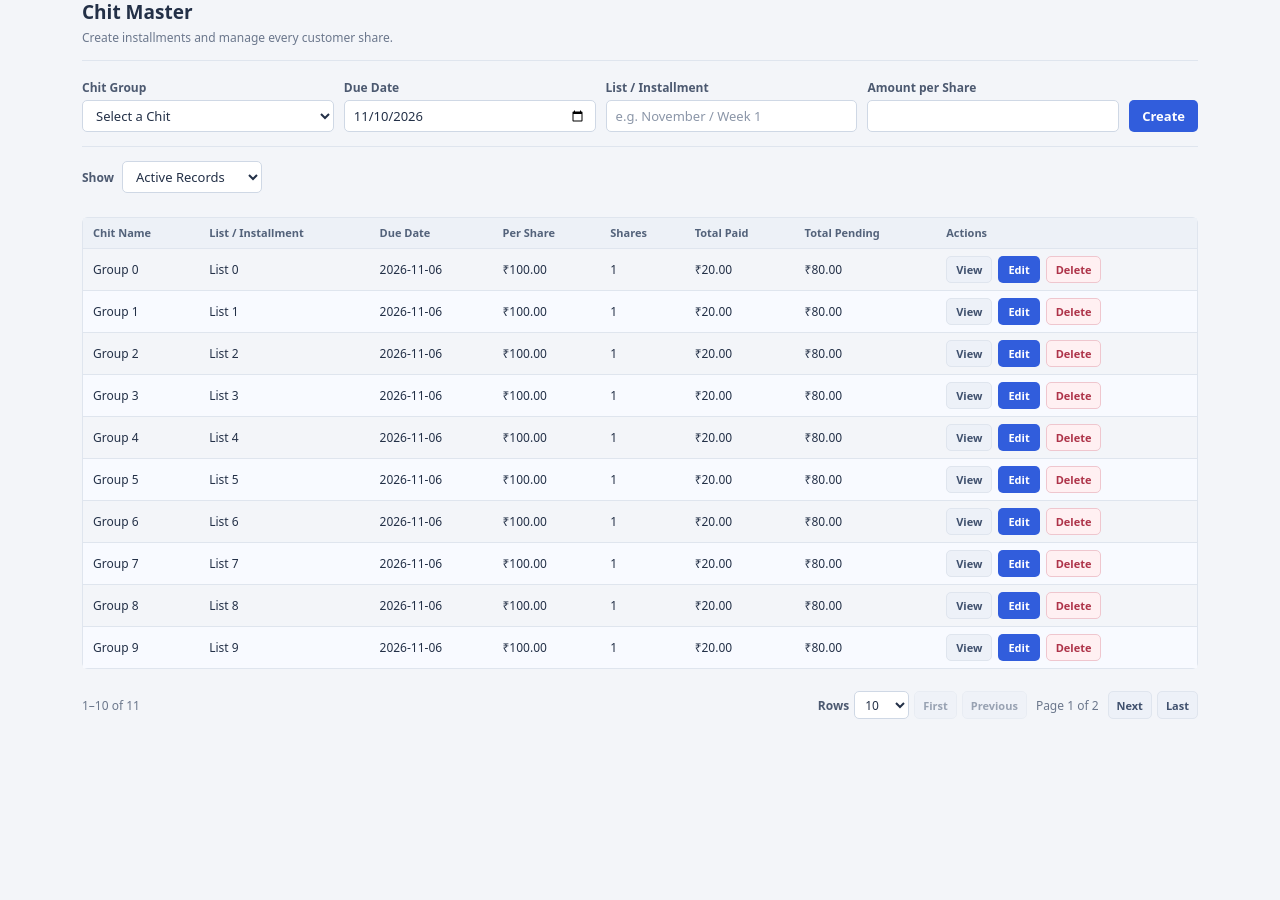
a share payment can be recorded from the details popup
Expected: the text "Group 0" is shown, [83, 249, 199, 291]
Click the button "View" in the row of "Group 0": (969, 270) [946, 256, 992, 283]
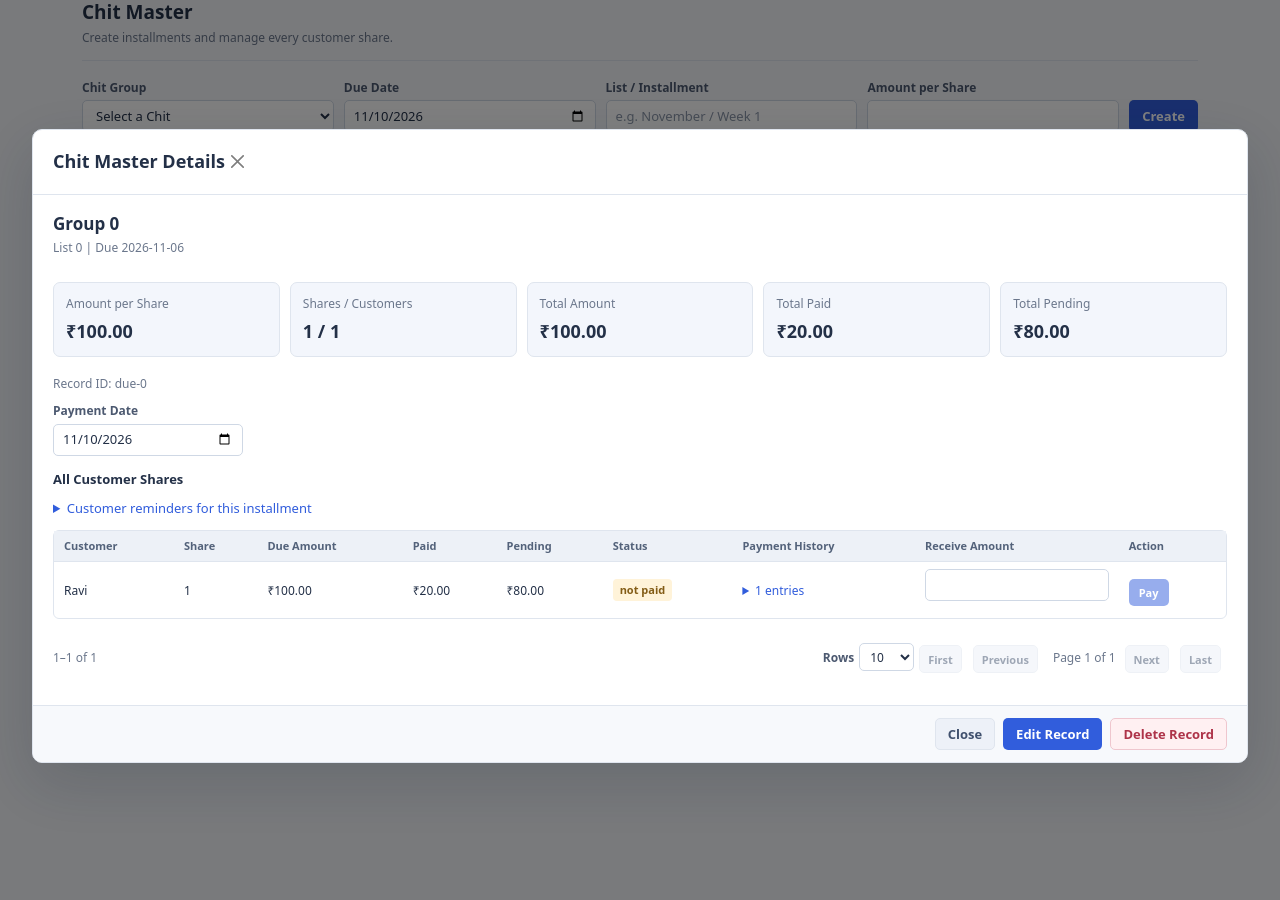
In the number field named "Payment for Ravi share 1": (1017, 585) [925, 569, 1109, 601], type "30"
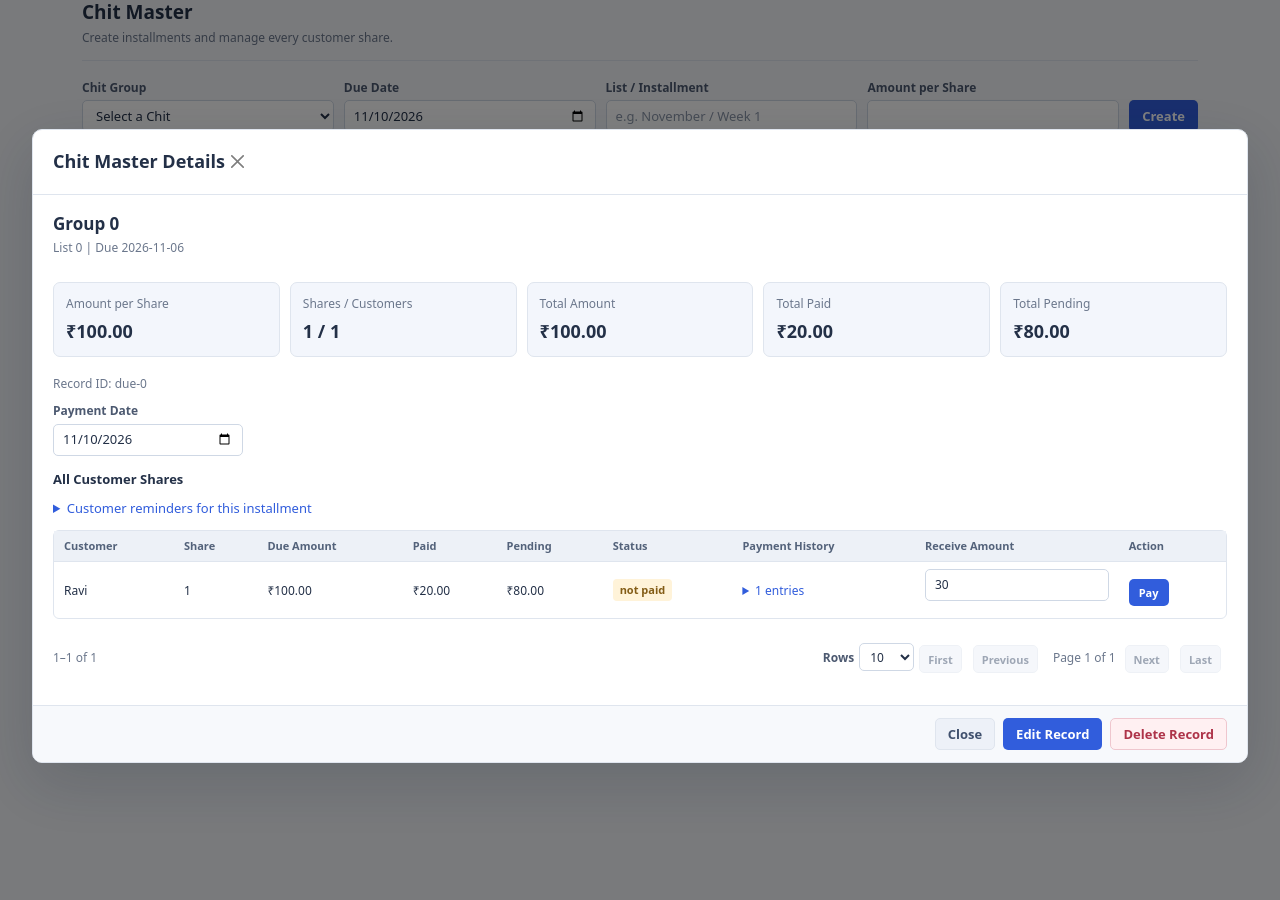
In the date field labelled "Payment Date": (148, 440) [53, 424, 243, 456], type "2026-11-06"
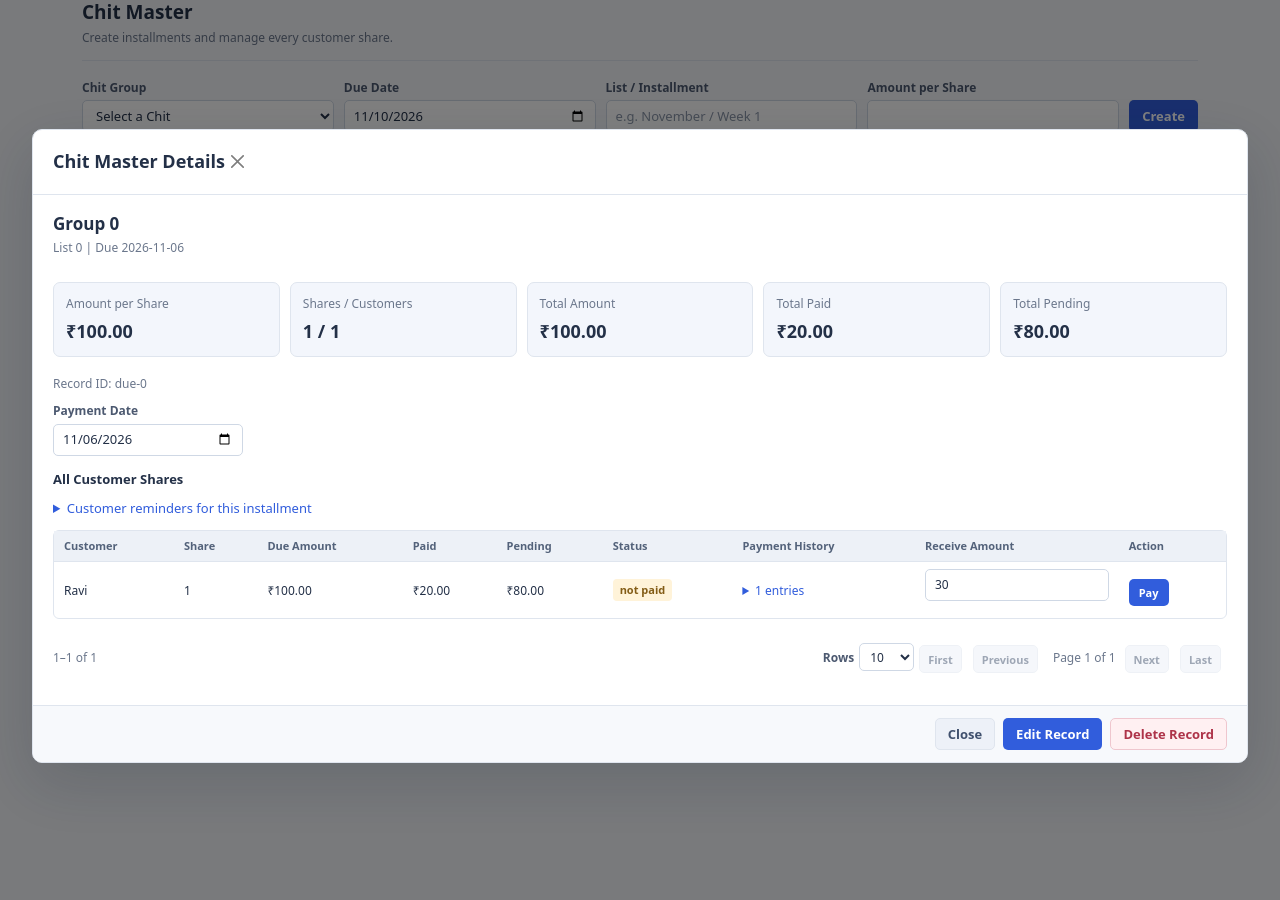
Click the button "Pay": (1149, 592) [1129, 579, 1168, 606]
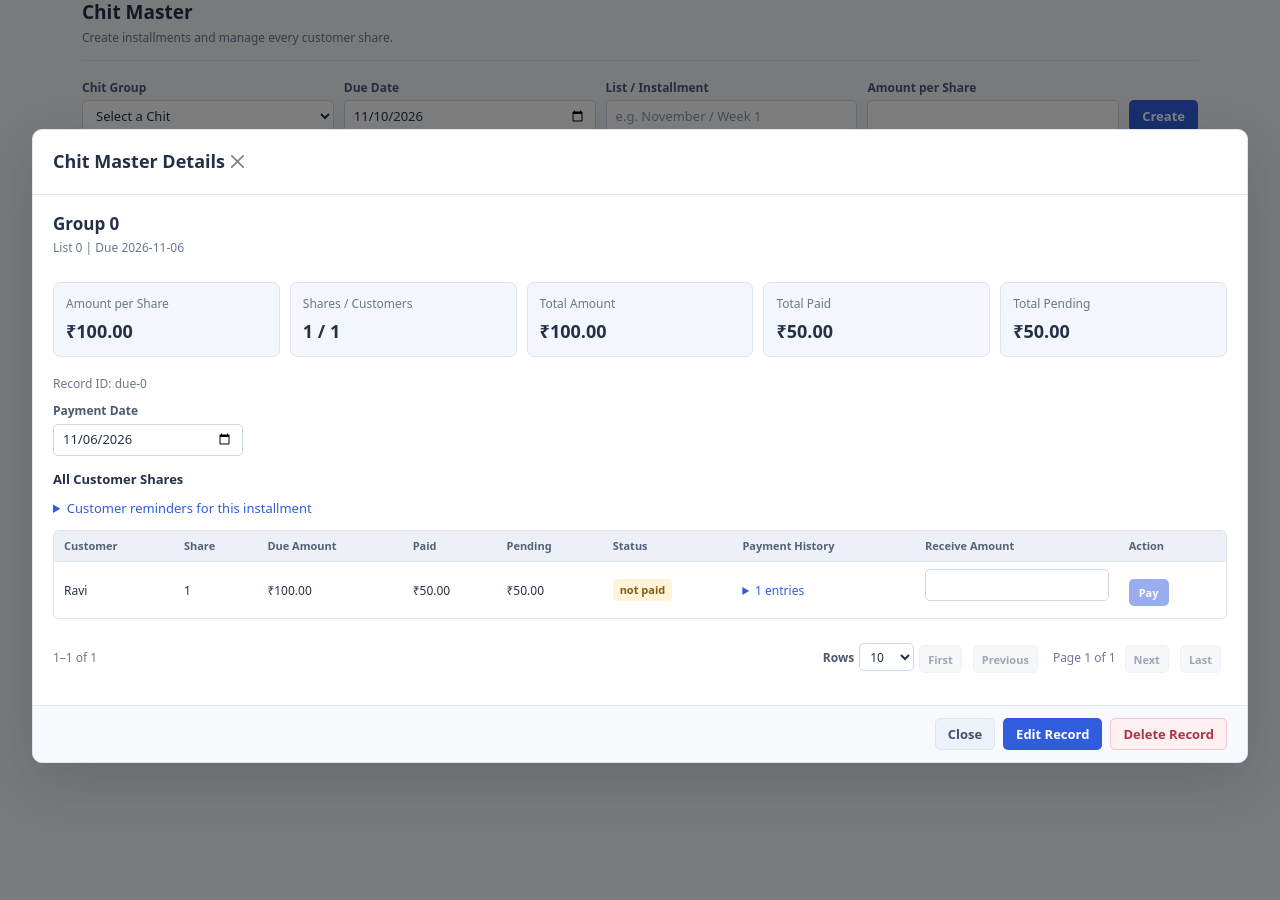
Result: the number field named "Payment for Ravi share 1" is not empty at [925, 569, 1109, 601]
